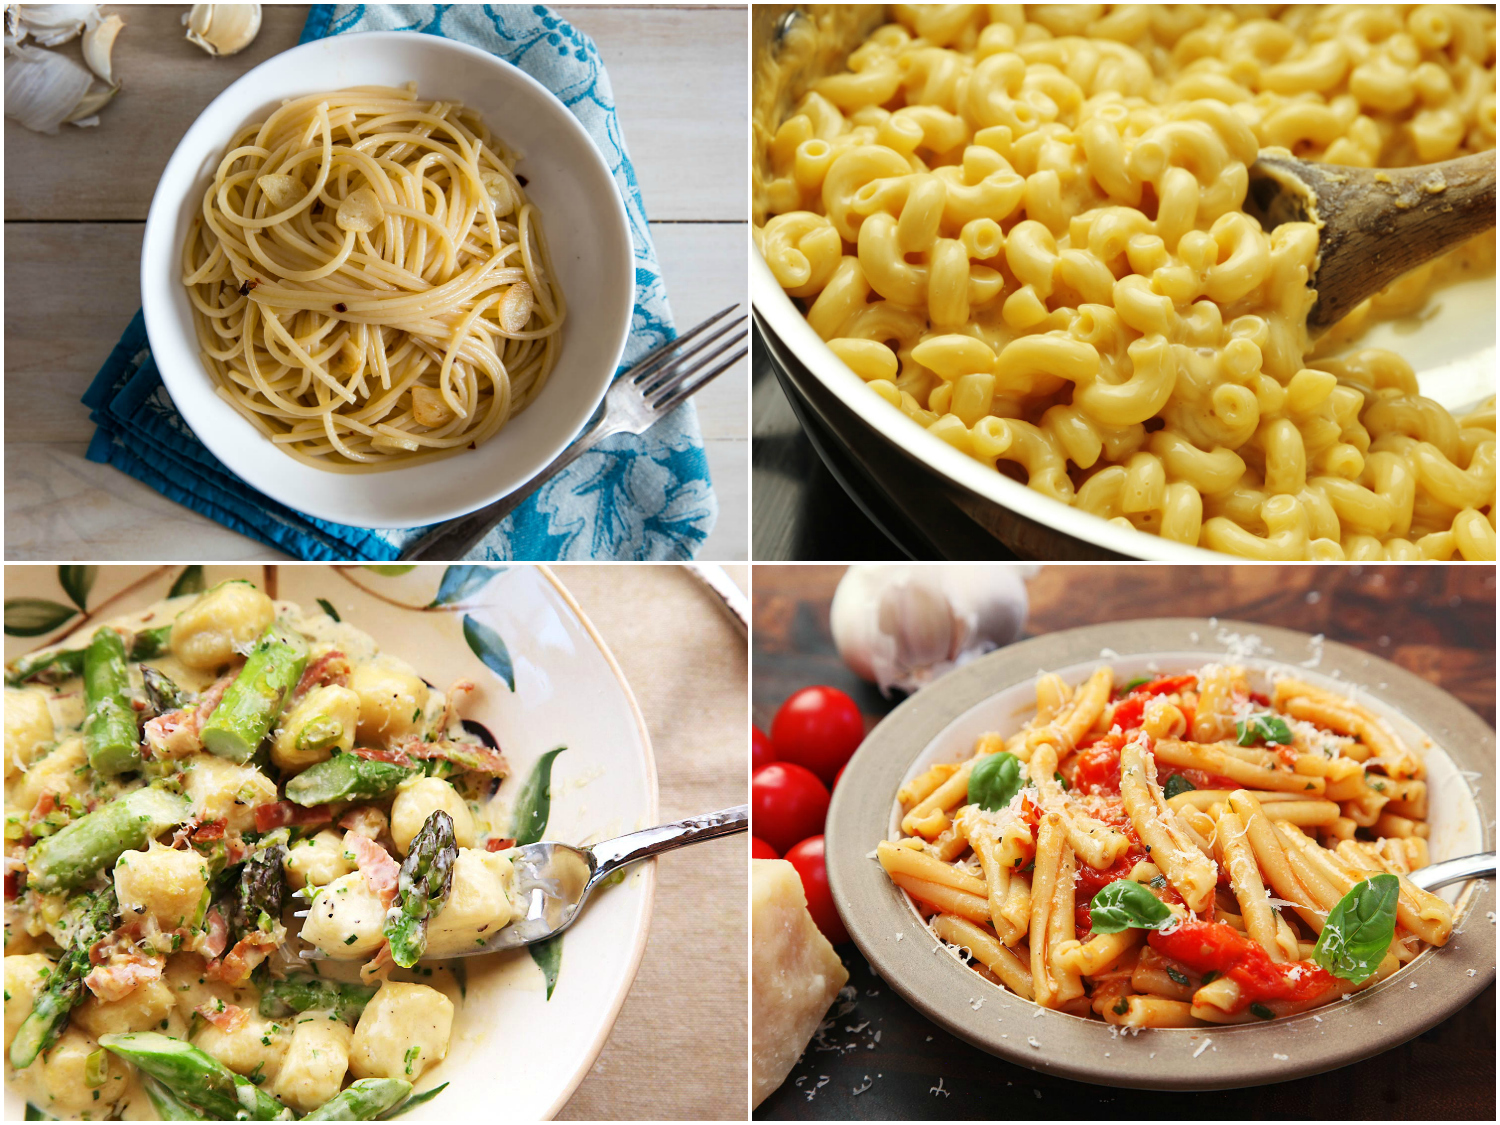plain spaghetti: (803, 12, 1269, 469), (41, 631, 461, 1092), (198, 104, 557, 454), (941, 700, 1407, 965)
